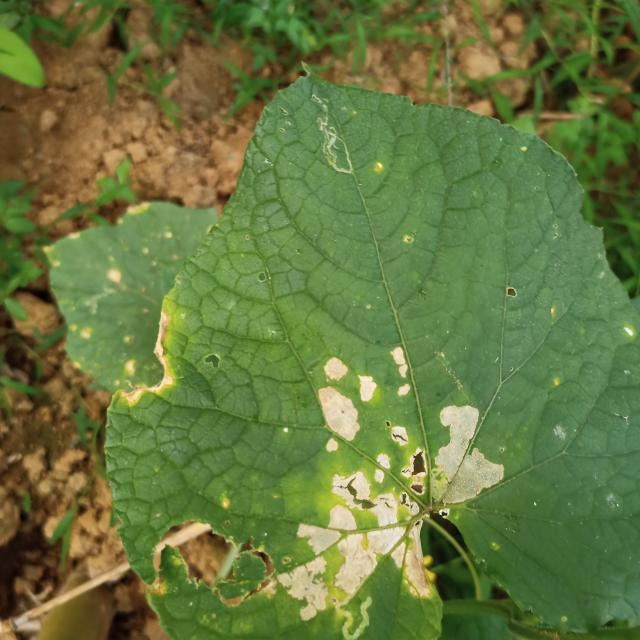disease_cucumber: (273, 338, 506, 625)
